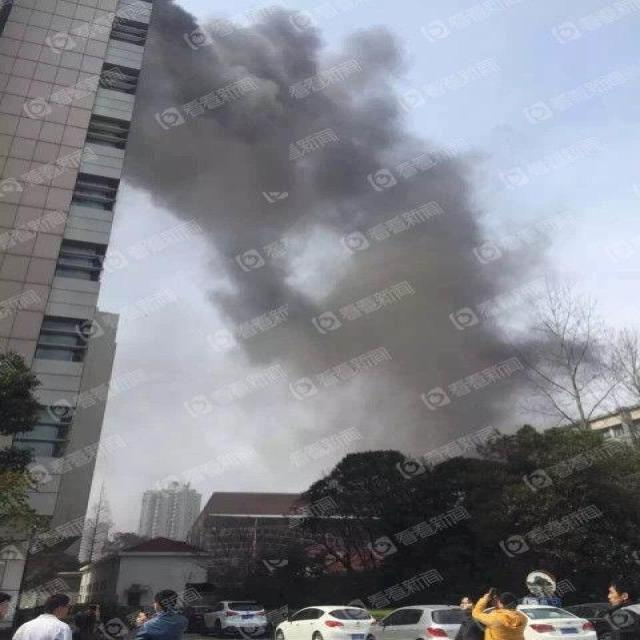Smoke: (121, 1, 610, 476)
